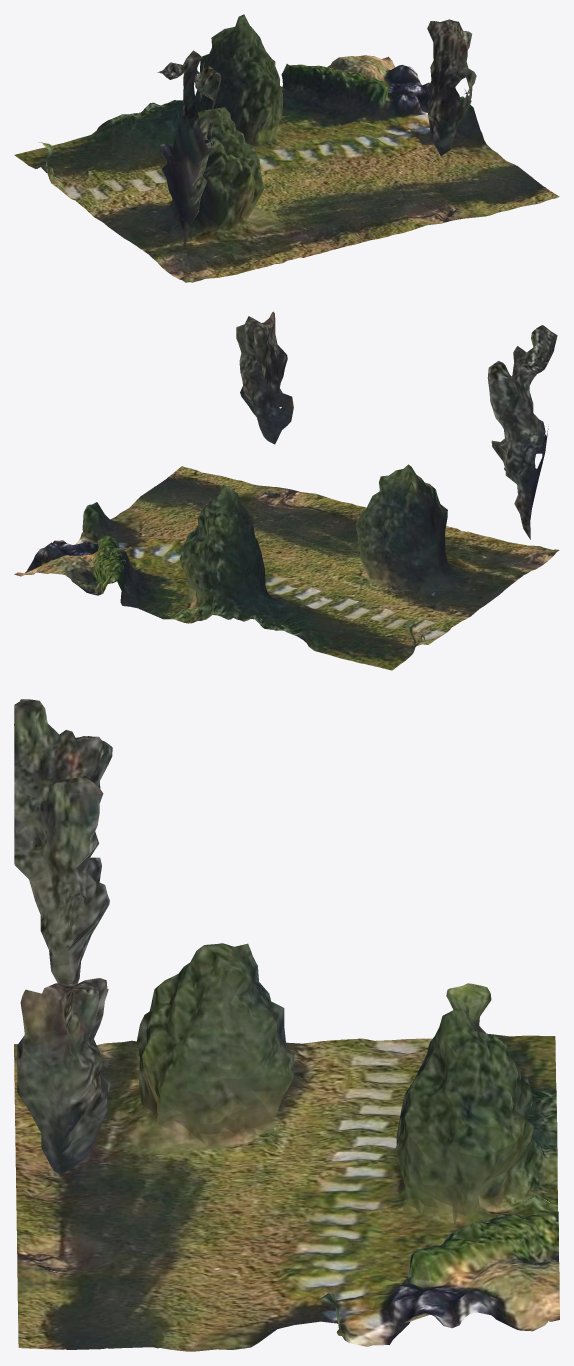
Rendered from Tile_+006_+007_L22_0003200.glb.
The picture shows the model from 3 angles, top to bottom: view 1: azimuth 30°, elevation 25°; view 2: azimuth 150°, elevation 25°; view 3: azimuth 270°, elevation 25°; orthographic projection. The views are drawn at different scales.
Parts seen in each view (by area): view 1: rtc; view 2: rtc; view 3: rtc.
Part boxes in pixels (box(x1,y1,x2,y2)): rtc: box(14, 14, 559, 282); rtc: box(14, 311, 559, 670); rtc: box(14, 699, 559, 1351).
Size of the model in its own units: 8.86 by 5.2 by 6.94.
1 material, 1 textured.
